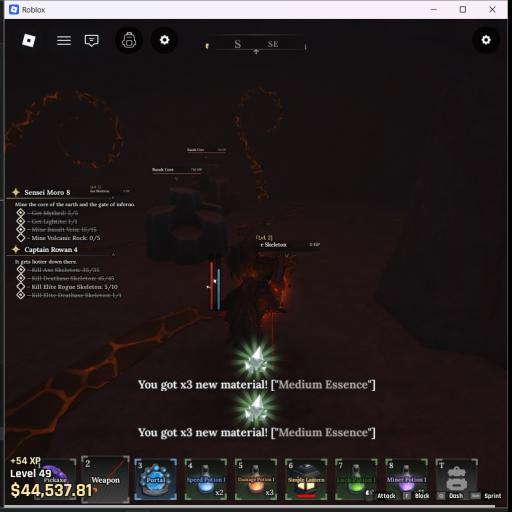player: (221, 240, 286, 340)
rock: (146, 187, 227, 264), (189, 165, 239, 214)
